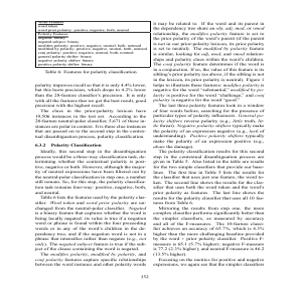diagram: (36, 20, 151, 70)
text: (152, 20, 265, 269), (33, 83, 149, 267)
